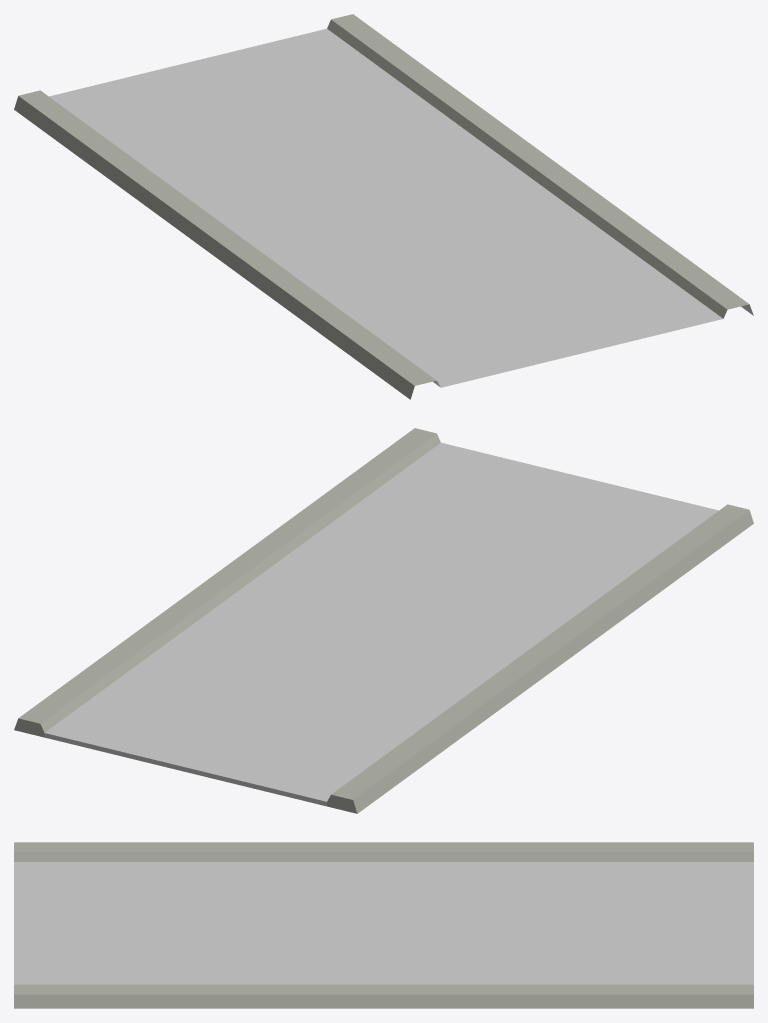
The model's file is ParkRoad_1_C.fbx.
3 views of the same model, one above another, from view 1: azimuth 30°, elevation 25°; view 2: azimuth 150°, elevation 25°; view 3: azimuth 270°, elevation 25° (orthographic). The views are drawn at different scales.
Visible parts, largest first — view 1: ParkRoad_1_C; view 2: ParkRoad_1_C; view 3: ParkRoad_1_C.
Boxes of the visible parts, x1,y1,x2,y2 form: ParkRoad_1_C: (14,14,753,399); ParkRoad_1_C: (14,428,753,813); ParkRoad_1_C: (14,842,753,1008).
Size of the model in its own units: 200 by 7.16 by 400.
